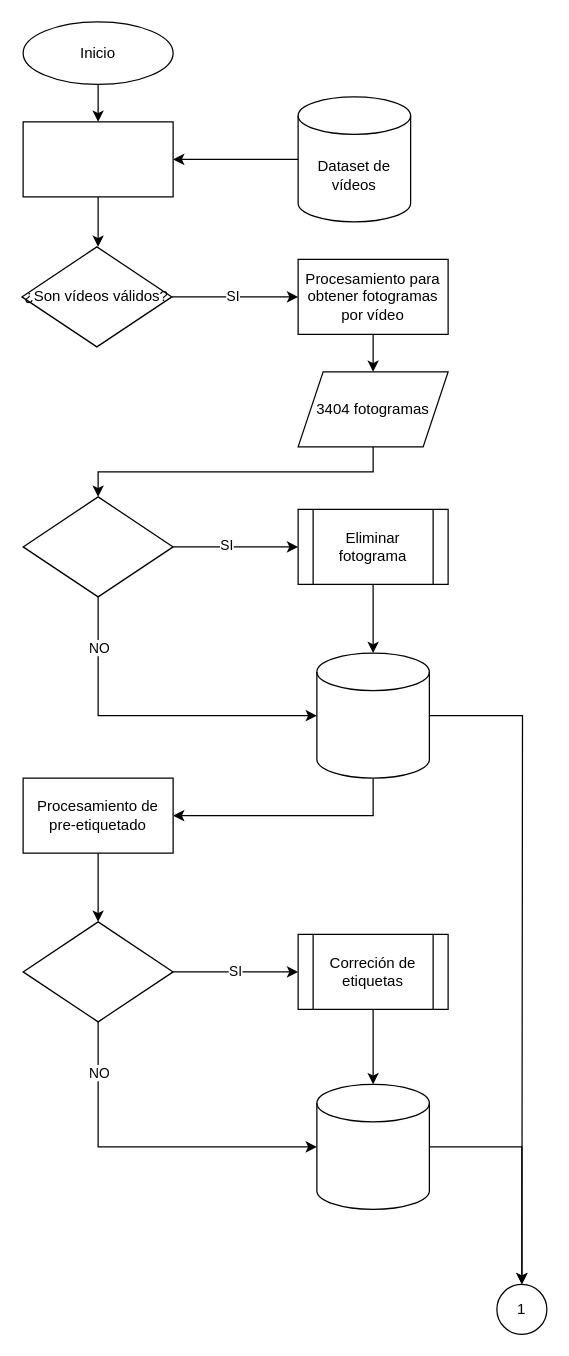
Some shapes in this 569 by 1356 pixel diagram are drawn without their labels. The shapes that lost their labels are listed below. From the top down, each one's box as (x1, y1, x2, y2) in pixels, then its label:
(22, 121, 173, 197): Revisión de videos
(22, 496, 173, 597): ¿se requiere filtrar?
(316, 652, 429, 778): Dataset de 741 fotogramas válidos
(22, 921, 173, 1022): ¿se requiere corregir etiquetas?
(316, 1083, 429, 1209): Dataset de etiquetas por fotograma
